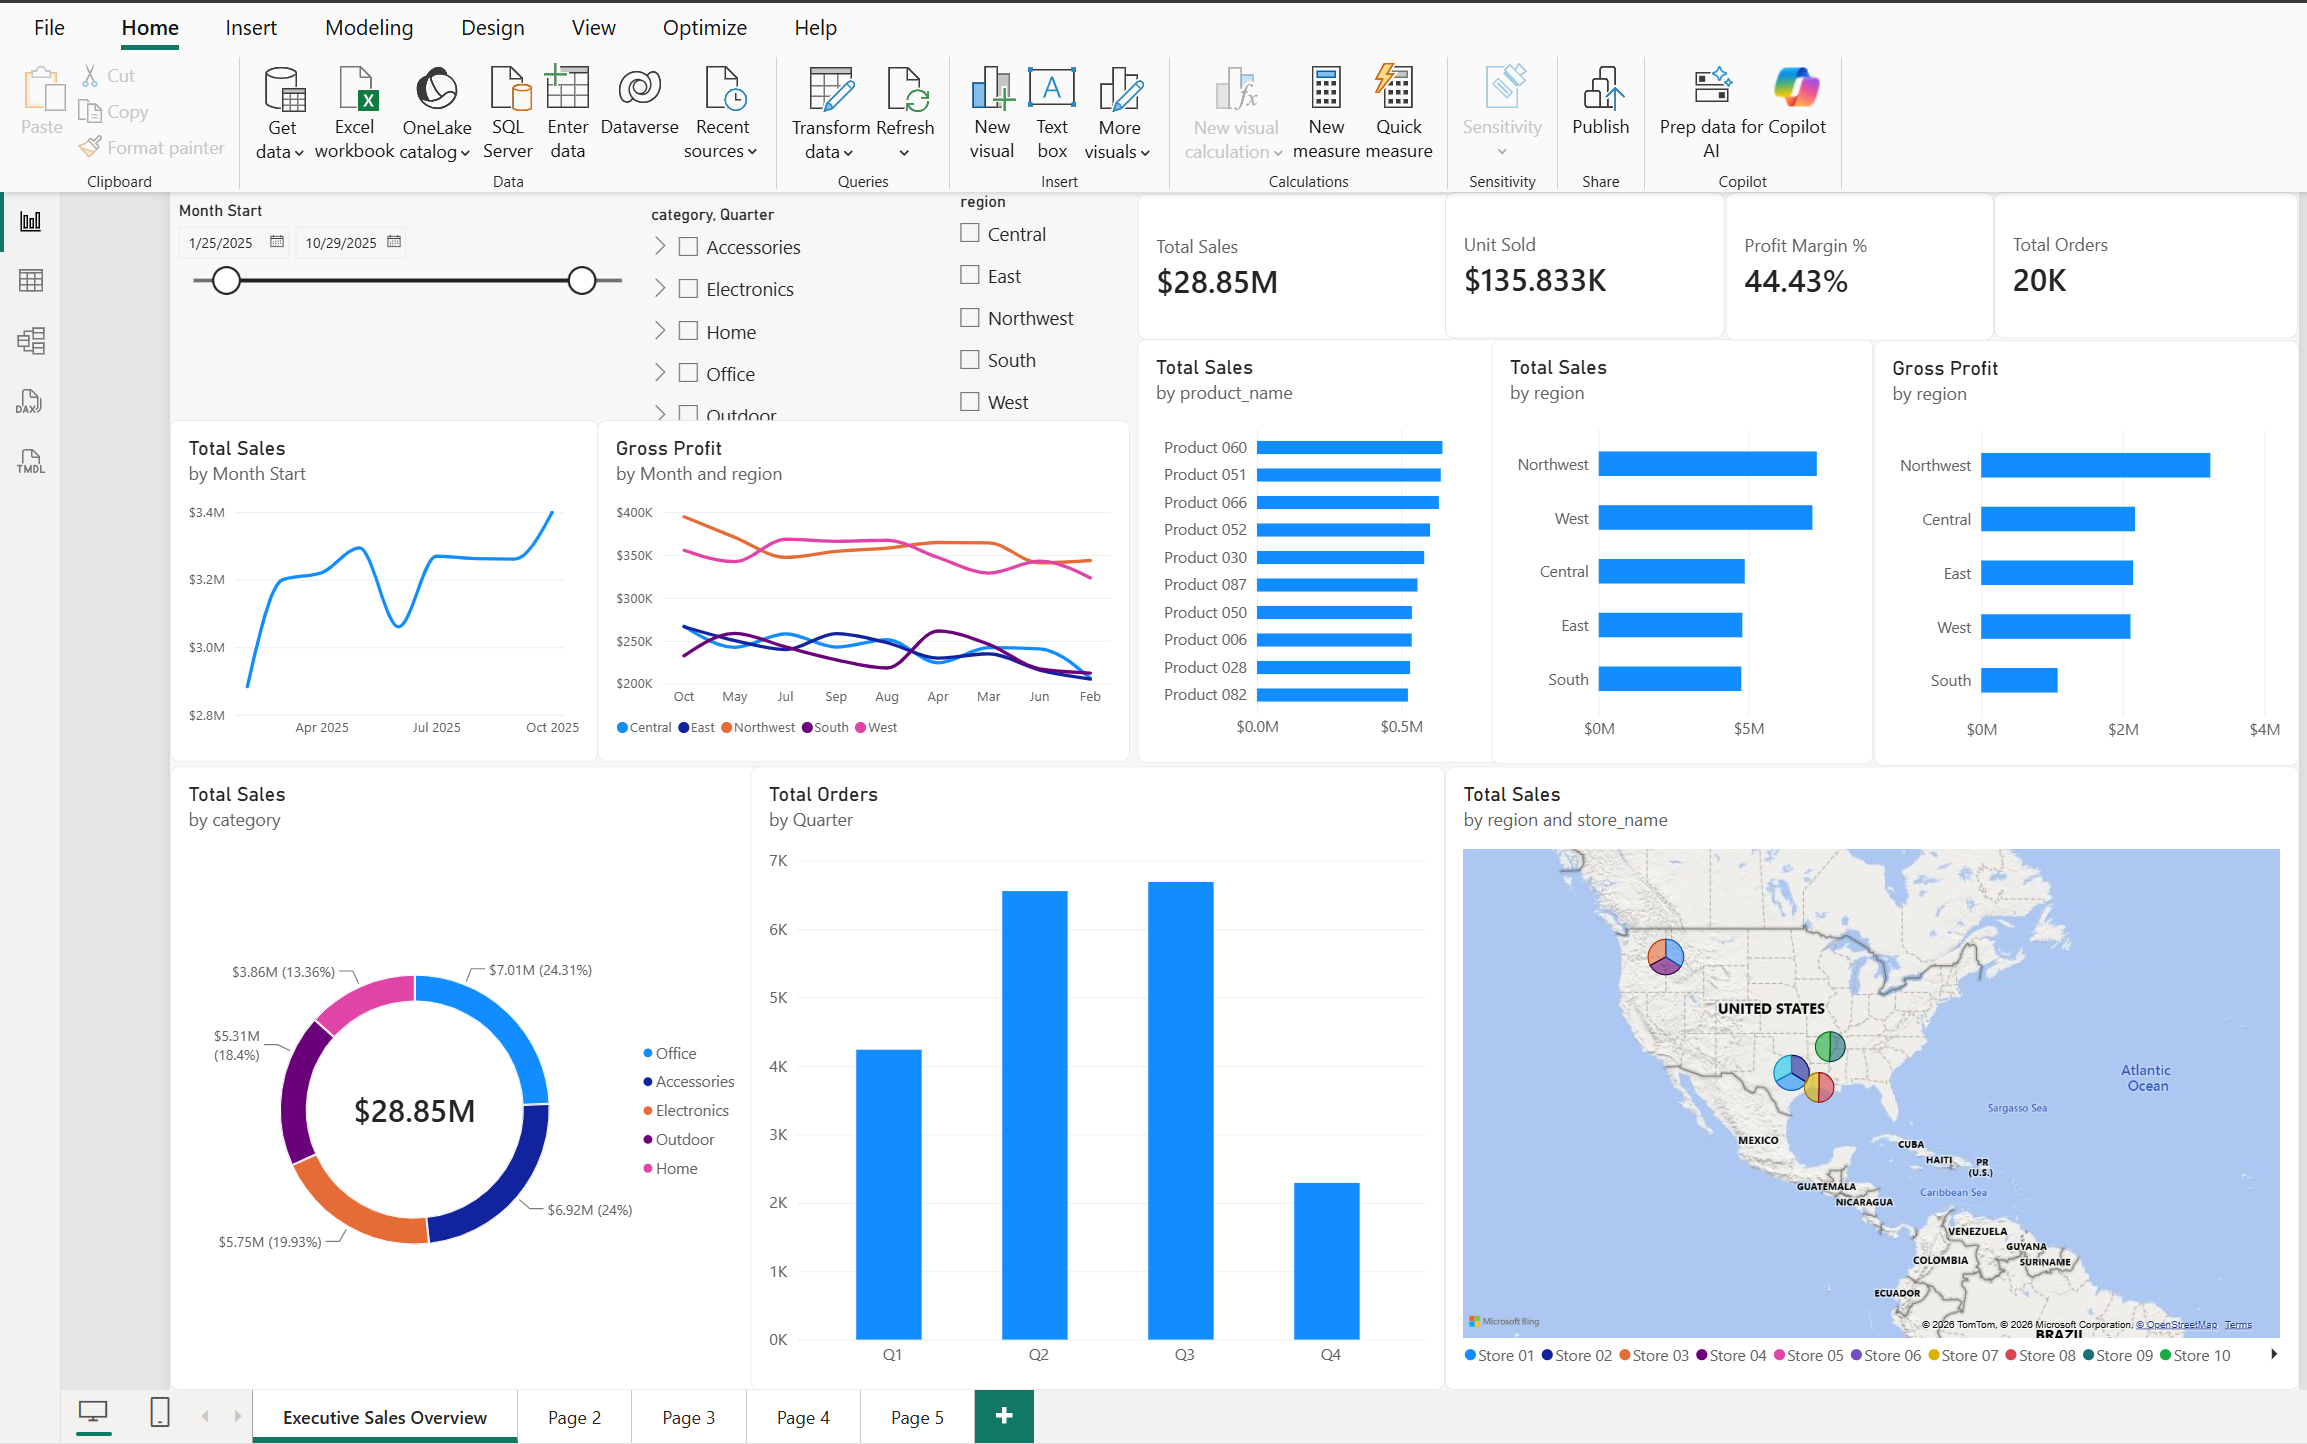

The dashboard page shown, as its layout file describes it:
{"tool":"powerbi","page":{"name":"Executive Sales Overview","canvas":[1920,1080],"ordinal":0},"visuals":[{"type":"slicer","fields":{"Values":["analytics vw_RecognizedSales.category","DimDate.Quarter"]},"box":[425.4,12.1,264,227.8],"z":0},{"type":"slicer","fields":{"Values":["analytics vw_RecognizedSales.region"]},"box":[704,0,162,240],"z":1000},{"type":"clusteredBarChart","fields":{"Category":["DimProducts.product_name"],"Y":["FactSales.Total Sales"]},"box":[872,132,353,381.7],"z":2000},{"type":"clusteredBarChart","fields":{"Category":["DimStores.region"],"Y":["FactSales.Total Sales"]},"box":[1192,132,344,383.2],"z":3000},{"type":"clusteredBarChart","fields":{"Category":["DimStores.region"],"Y":["FactSales.Gross Profit"]},"box":[1536,134,383.2,383.2],"z":4000},{"type":"cardVisual","fields":{"Data":["FactSales.Total Sales"]},"box":[872,2,290,132],"z":5000},{"type":"cardVisual","fields":{"Data":["FactSales.Total Orders"]},"box":[1644,0,274,132],"z":6000},{"type":"cardVisual","fields":{"Data":["FactSales.Profit Margin %"]},"box":[1402,0,242,134],"z":7000},{"type":"cardVisual","fields":{"Data":["FactSales.Unit Sold"]},"box":[1150,0,252,132],"z":8000},{"type":"slicer","fields":{"Values":["DimDate.Month Start"]},"box":[0,8,426,240],"z":9000},{"type":"lineChart","fields":{"Category":["DimDate.Month Start"],"Y":["FactSales.Total Sales"]},"box":[0,206,386,308],"z":10000},{"type":"donutChart","fields":{"Category":["DimProducts.category"],"Y":["FactSales.Total Sales"]},"box":[0,518,536,562],"z":11000},{"type":"lineChart","fields":{"Category":["DimDate.Month"],"Series":["DimStores.region"],"Y":["FactSales.Gross Profit"]},"box":[386,206,480,308],"z":12000},{"type":"clusteredColumnChart","fields":{"Category":["DimDate.Quarter"],"Y":["FactSales.Total Orders"]},"box":[524,518,626,562],"z":13000},{"type":"map","fields":{"Category":["DimStores.region"],"Series":["DimStores.store_name"],"Size":["FactSales.Total Sales"]},"box":[1150,518,770,562],"z":13002}]}

Visuals, with their boxes on the page's 1920x1080 design canvas (x1, y1, x2, y2). These are canvas units, not pixel positions in the 2307x1444 screenshot, which may show the page scaled, cropped or inside an application window:
slicer - analytics vw_RecognizedSales.category x DimDate.Quarter: (425, 12, 689, 240)
slicer - analytics vw_RecognizedSales.region: (704, 0, 866, 240)
clusteredBarChart - DimProducts.product_name x FactSales.Total Sales: (872, 132, 1225, 514)
clusteredBarChart - DimStores.region x FactSales.Total Sales: (1192, 132, 1536, 515)
clusteredBarChart - DimStores.region x FactSales.Gross Profit: (1536, 134, 1919, 517)
cardVisual - FactSales.Total Sales: (872, 2, 1162, 134)
cardVisual - FactSales.Total Orders: (1644, 0, 1918, 132)
cardVisual - FactSales.Profit Margin %: (1402, 0, 1644, 134)
cardVisual - FactSales.Unit Sold: (1150, 0, 1402, 132)
slicer - DimDate.Month Start: (0, 8, 426, 248)
lineChart - DimDate.Month Start x FactSales.Total Sales: (0, 206, 386, 514)
donutChart - DimProducts.category x FactSales.Total Sales: (0, 518, 536, 1080)
lineChart - DimDate.Month x DimStores.region: (386, 206, 866, 514)
clusteredColumnChart - DimDate.Quarter x FactSales.Total Orders: (524, 518, 1150, 1080)
map - DimStores.region x DimStores.store_name: (1150, 518, 1920, 1080)
